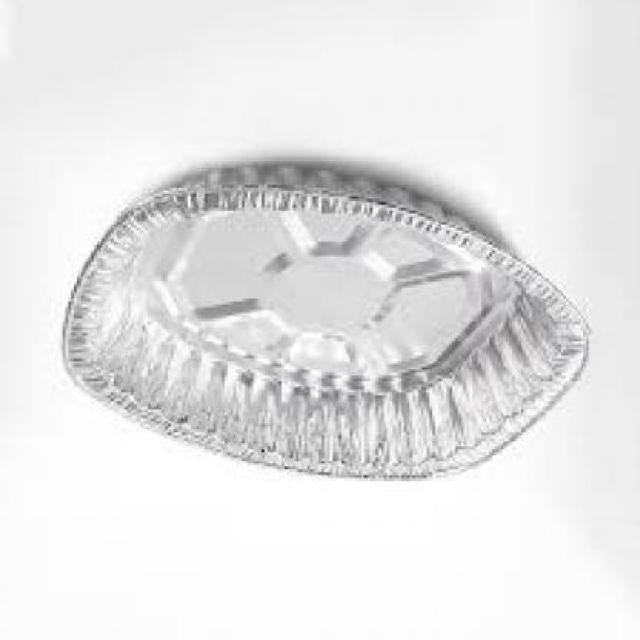METAL: (57, 170, 589, 484)
